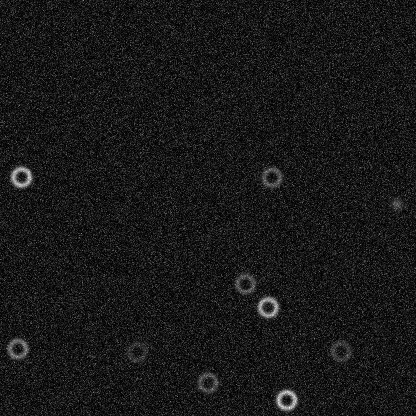Ring: (5, 336, 29, 360), (124, 339, 148, 363), (233, 271, 257, 295), (195, 370, 219, 394), (255, 295, 279, 319), (328, 339, 352, 363), (274, 387, 298, 411), (259, 165, 283, 189), (9, 164, 33, 188)
Spot: (388, 195, 404, 211)
